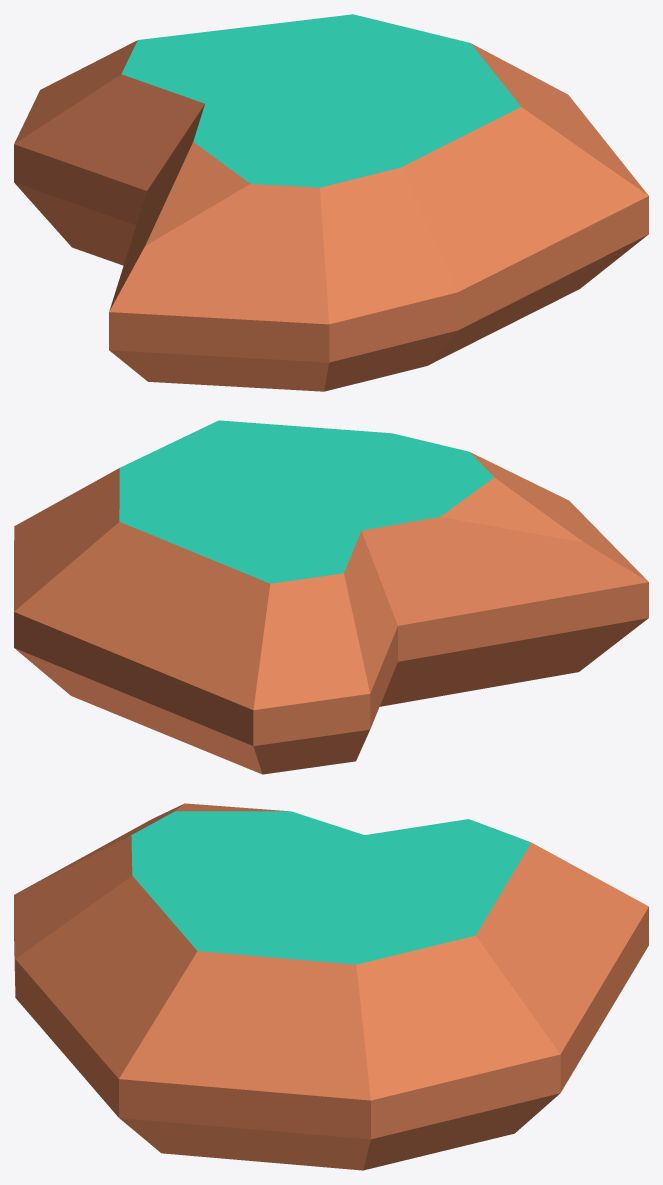
The model's file is d_kenney_rocher_c.glb.
3 views of the same model, one above another, from view 1: azimuth 30°, elevation 25°; view 2: azimuth 150°, elevation 25°; view 3: azimuth 270°, elevation 25° (orthographic). The views are drawn at different scales.
Visible parts, largest first — view 1: d_kenney_rocher_c; view 2: d_kenney_rocher_c; view 3: d_kenney_rocher_c.
Boxes of the visible parts, x1,y1,x2,y2 form: d_kenney_rocher_c: [14, 14, 648, 391]; d_kenney_rocher_c: [14, 420, 648, 774]; d_kenney_rocher_c: [14, 803, 648, 1170].
Size of the model in its own units: 1.06 by 0.3211 by 1.02.
1 material, 1 textured.
